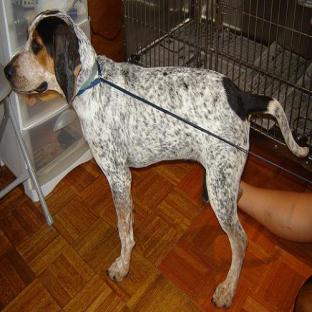Animal: (5, 10, 308, 306)
